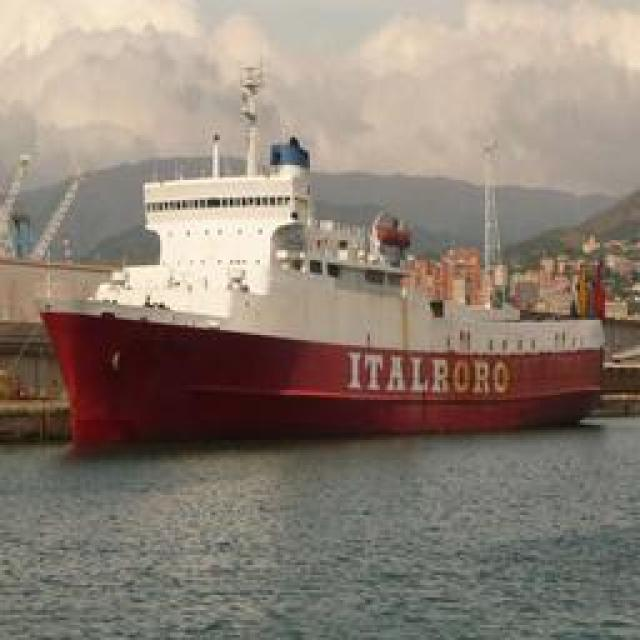CIV_Ship: (35, 159, 620, 439)
